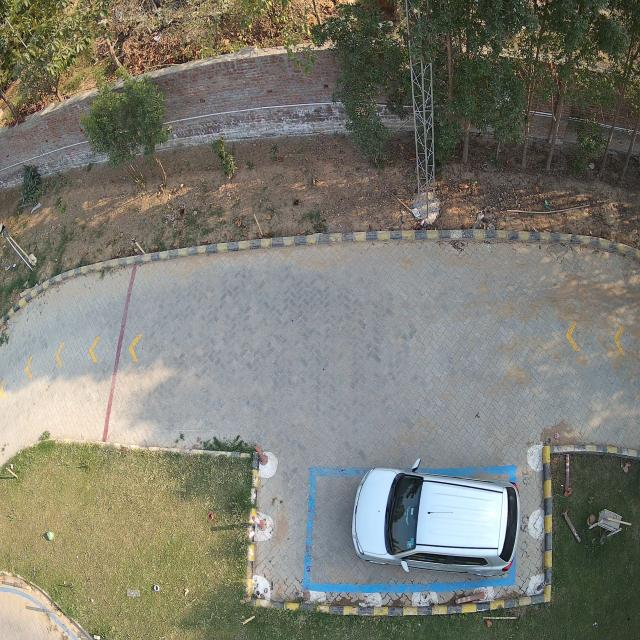car: (348, 467, 521, 577)
